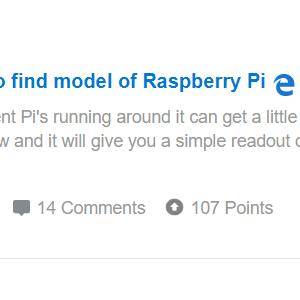edge: (273, 74, 295, 96)
